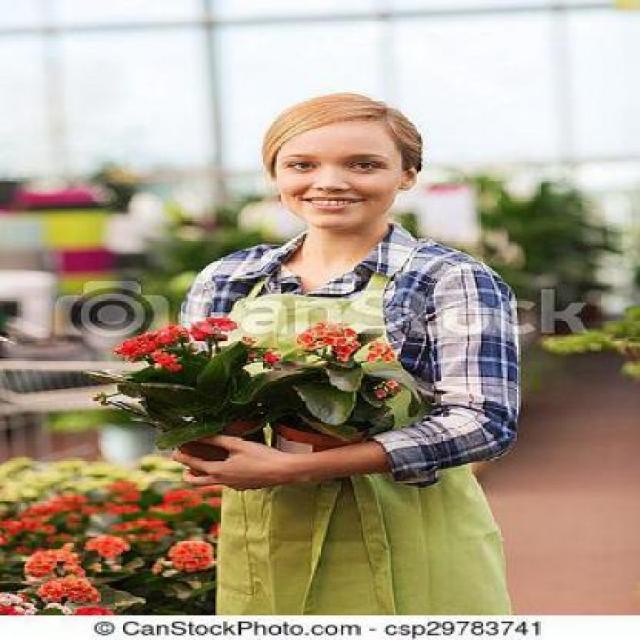flower: (187, 316, 245, 346), (288, 321, 360, 345), (115, 329, 153, 360), (364, 342, 398, 368), (150, 350, 184, 375), (327, 337, 359, 351), (382, 383, 403, 395)
